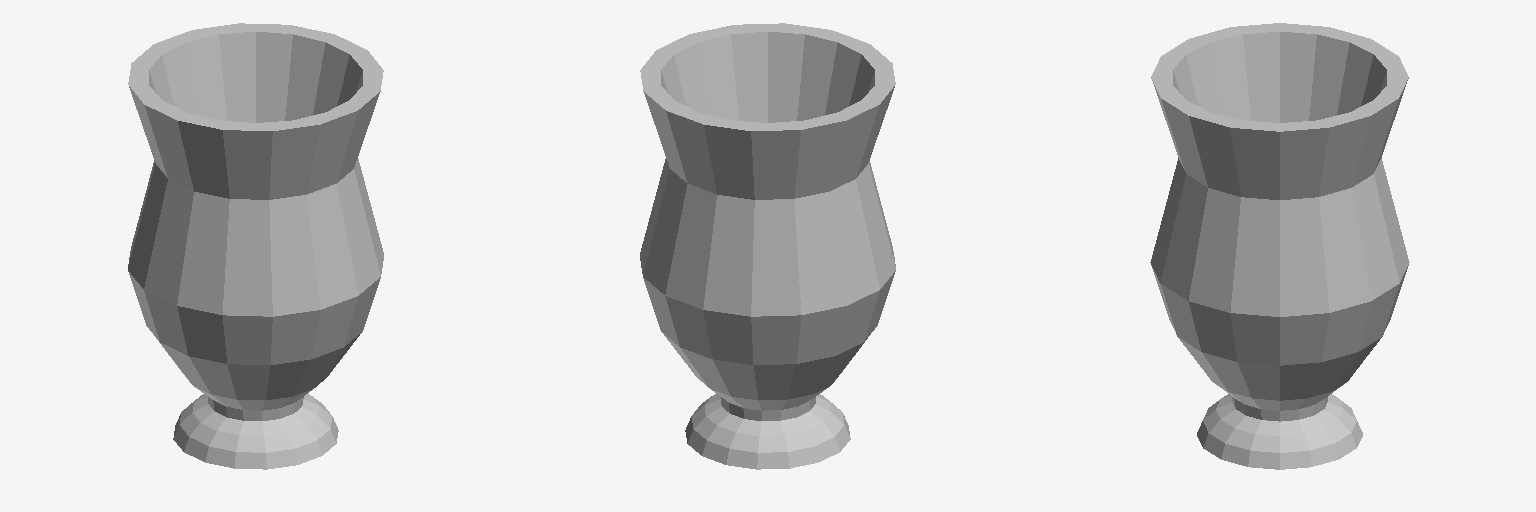
The model's file is reduced.obj.
3 renders of one model, left to right at view 1: azimuth 30°, elevation 25°; view 2: azimuth 150°, elevation 25°; view 3: azimuth 270°, elevation 25°, orthographic.
Bounding box in the file's own units: 416 × 633 × 416.